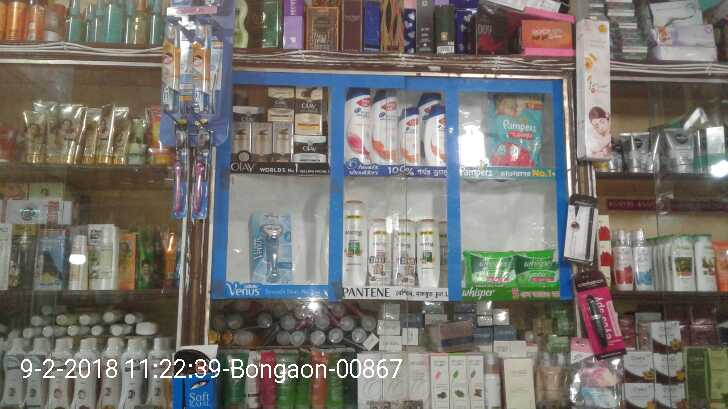venus: (251, 212, 292, 285)
